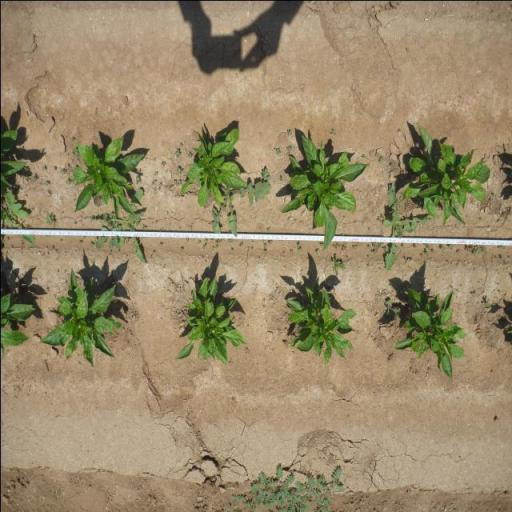plant: (40, 266, 128, 368), (402, 131, 490, 216), (280, 152, 362, 238), (173, 272, 248, 366), (398, 286, 468, 381), (70, 125, 144, 213), (282, 282, 356, 367), (178, 124, 247, 207), (0, 292, 36, 358)
weed: (220, 464, 346, 512), (380, 197, 425, 268), (89, 210, 145, 265), (217, 184, 274, 233), (0, 193, 36, 246), (330, 256, 345, 276), (385, 299, 400, 316), (464, 244, 486, 255), (366, 241, 384, 254), (260, 166, 270, 181), (44, 212, 54, 225), (135, 168, 141, 184), (157, 181, 167, 190), (331, 240, 340, 250), (72, 147, 80, 158), (482, 297, 490, 308), (273, 146, 281, 156), (172, 178, 182, 185), (340, 240, 347, 250), (329, 127, 337, 135), (174, 148, 180, 158), (438, 242, 444, 252), (59, 167, 66, 175), (175, 166, 182, 174), (296, 242, 302, 251), (214, 239, 220, 248), (202, 238, 207, 248), (446, 243, 453, 250), (266, 238, 273, 245), (30, 174, 36, 182), (286, 128, 292, 136), (352, 241, 358, 249), (285, 145, 292, 151), (423, 243, 430, 249), (141, 223, 147, 230), (23, 166, 29, 172), (64, 178, 70, 184), (38, 147, 44, 153), (160, 160, 166, 166), (412, 242, 418, 248), (402, 256, 408, 262), (262, 242, 268, 248), (378, 156, 384, 162), (187, 151, 192, 158), (151, 179, 156, 186), (238, 241, 243, 248), (44, 180, 49, 186), (178, 142, 184, 147), (168, 183, 173, 189), (456, 249, 462, 254), (423, 250, 428, 256), (382, 247, 388, 252), (314, 249, 320, 254), (178, 246, 184, 251), (389, 162, 394, 168), (153, 170, 157, 176), (430, 248, 434, 254), (400, 243, 404, 249), (289, 248, 293, 254), (263, 248, 267, 254), (227, 238, 233, 242), (376, 217, 380, 222), (209, 238, 214, 242), (361, 153, 365, 158), (71, 136, 74, 142), (279, 175, 282, 181), (42, 164, 44, 170), (380, 212, 382, 218), (368, 226, 370, 232), (420, 252, 422, 258), (230, 248, 233, 252), (186, 236, 188, 242), (220, 237, 222, 242), (212, 246, 214, 251), (320, 242, 322, 246), (198, 240, 200, 244)
